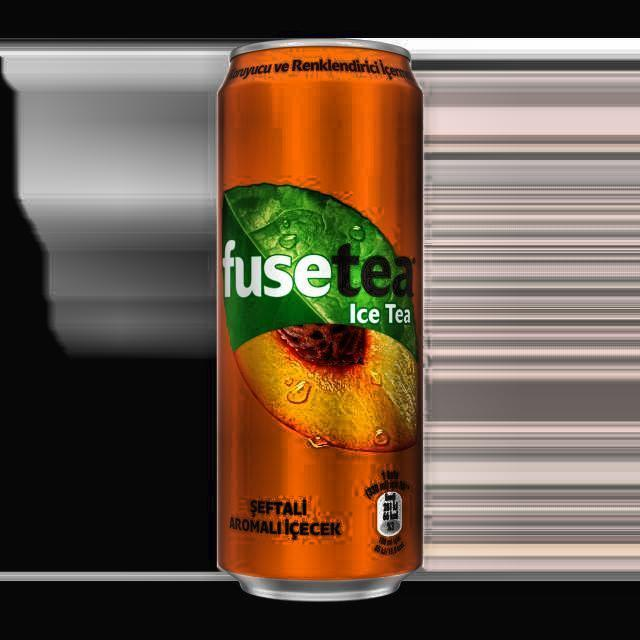metal: (216, 42, 424, 603)
